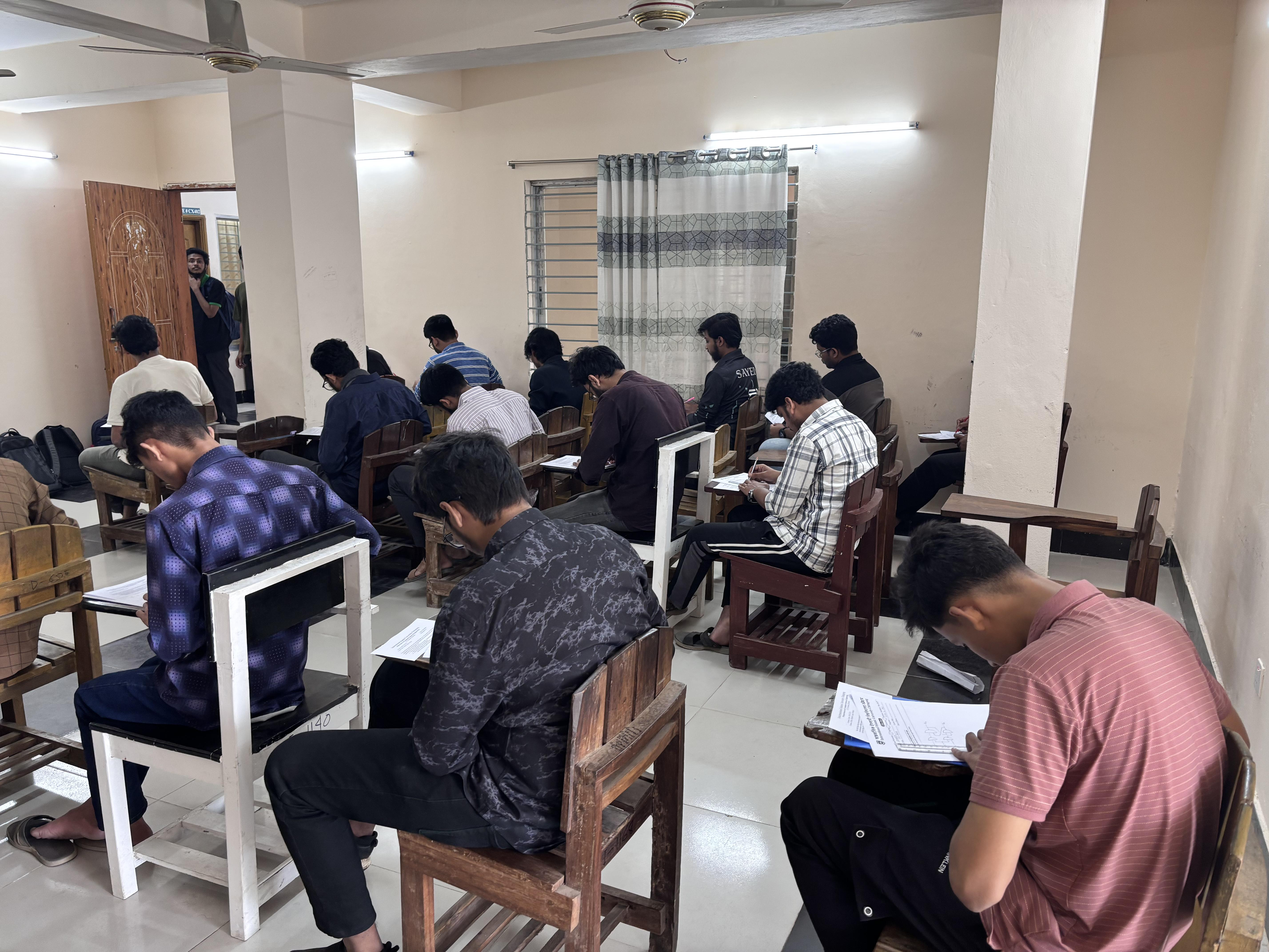no_cheating: (802, 508, 1209, 952), (352, 429, 642, 890), (89, 392, 347, 723), (720, 365, 911, 641), (548, 339, 715, 542), (786, 300, 914, 465), (678, 291, 778, 432), (507, 318, 611, 446), (300, 329, 409, 449), (414, 354, 524, 441), (409, 309, 512, 384)
suspicious_moving: (82, 311, 233, 430)
